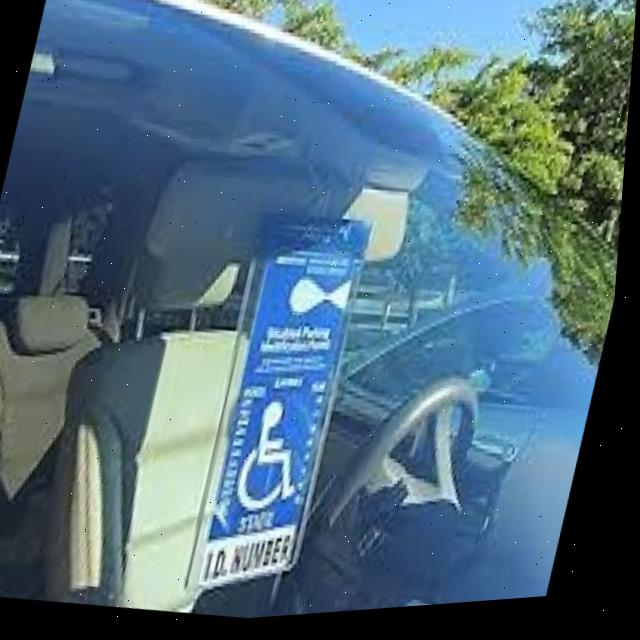symbol_of_access: (242, 397, 323, 522)
